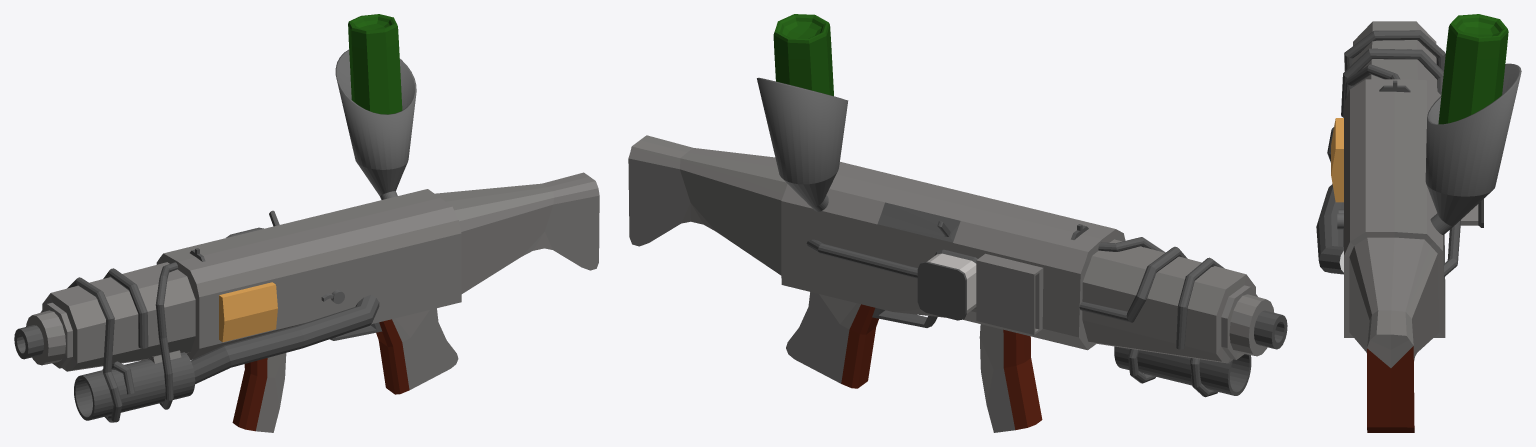
File: Gun.fbx
3 views of the same model, side by side, from view 1: azimuth 30°, elevation 25°; view 2: azimuth 150°, elevation 25°; view 3: azimuth 270°, elevation 25° (orthographic). The views are drawn at different scales.
Parts seen in each view (by area): view 1: Main, Bottle; view 2: Main, Bottle, Zatvor; view 3: Main, Bottle.
Part boxes in pixels (x1,y1,x2,y2): Main: (14, 49, 599, 432); Bottle: (348, 14, 402, 114); Main: (628, 77, 1287, 432); Bottle: (773, 14, 833, 96); Zatvor: (877, 202, 960, 242); Main: (1316, 21, 1521, 432); Bottle: (1438, 14, 1508, 124).
Bounding box in the file's own units: 370 × 216 × 97.27.
